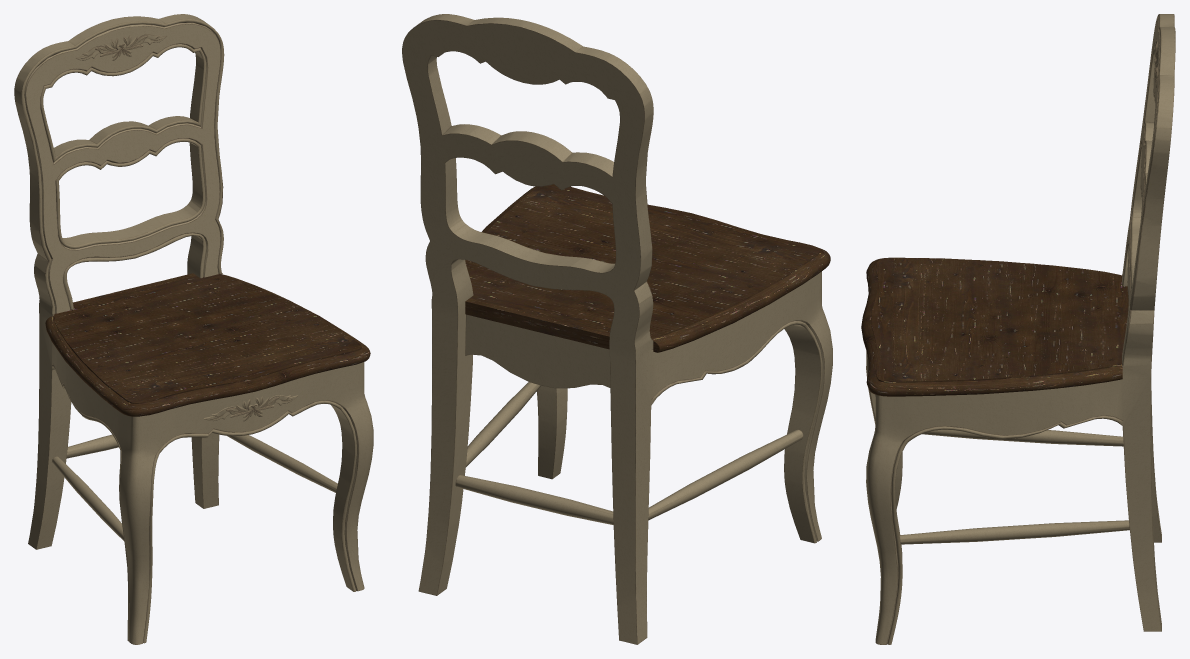
Rendered from example118.gltf.
3 views of the same model, side by side, from view 1: azimuth 30°, elevation 25°; view 2: azimuth 150°, elevation 25°; view 3: azimuth 270°, elevation 25° (orthographic). The views are drawn at different scales.
Bounding box in the file's own units: 48.55 × 92.97 × 48.76.
2 materials, 2 textured.
